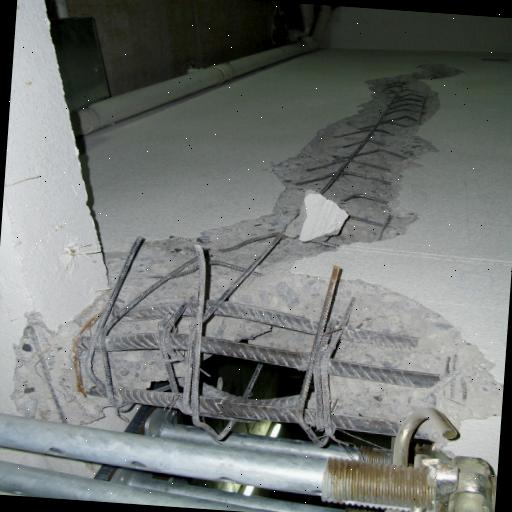spalling: (13, 62, 504, 449)
